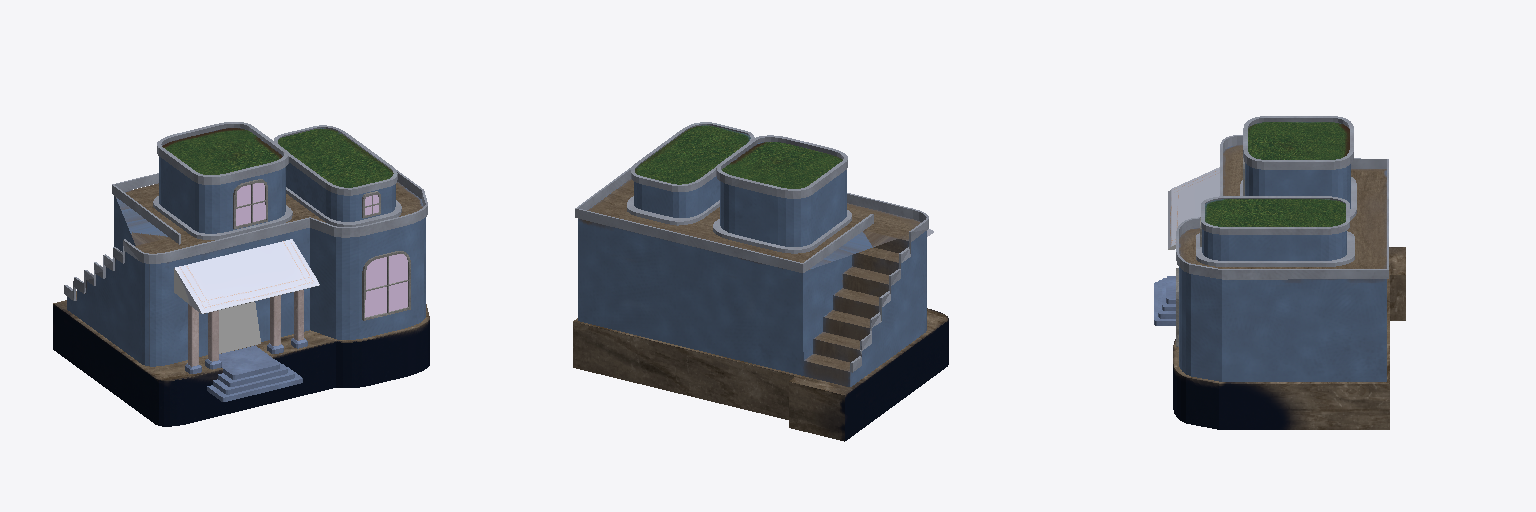
The picture shows the model from 3 angles: view 1: azimuth 30°, elevation 25°; view 2: azimuth 150°, elevation 25°; view 3: azimuth 270°, elevation 25°; orthographic projection.
Visible parts, largest first — view 1: Cube.456, Cube.410, Cube.430, Cube.415, Cube.438, Cube.423, Cube.421, Cube.427, Plane.001, Cube.446, Cube.426, Cube.433 (+7 smaller); view 2: Cube.456, Cube.410, Cube.430, Cube.438, Cube.423, Cube.427, Cube.426, Cube.433, Cube.429; view 3: Cube.456, Cube.410, Cube.438, Cube.430, Cube.423, Cube.427, Cube.415, Cube.426, Cube.429, Cube.421.
Part boxes in pixels (x1,y1,x2,y2): Cube.456: (67,182,425,366); Cube.410: (53,300,429,426); Cube.430: (159,128,285,233); Cube.415: (174,239,319,313); Cube.438: (278,128,395,221); Cube.423: (64,170,427,300); Cube.421: (207,345,302,401); Cube.427: (157,122,288,184); Plane.001: (365,254,407,317); Cube.446: (219,302,259,353); Cube.426: (274,125,397,195); Cube.433: (153,196,292,239); Cube.456: (578,179,926,386); Cube.410: (573,308,948,441); Cube.430: (720,142,846,246); Cube.438: (634,125,750,217); Cube.423: (575,167,928,372); Cube.427: (716,135,847,198); Cube.426: (631,122,754,191); Cube.433: (713,210,851,253); Cube.429: (627,196,719,225); Cube.456: (1179,145,1386,381); Cube.410: (1173,247,1405,429); Cube.438: (1202,199,1346,260); Cube.430: (1245,122,1350,208); Cube.423: (1176,135,1388,279); Cube.427: (1243,116,1353,169); Cube.415: (1168,167,1219,249); Cube.426: (1201,196,1349,234); Cube.429: (1196,231,1354,266); Cube.421: (1154,276,1175,325).
Size of the model in its own units: 2.01 by 1.45 by 1.56.
16 materials, 13 textured.